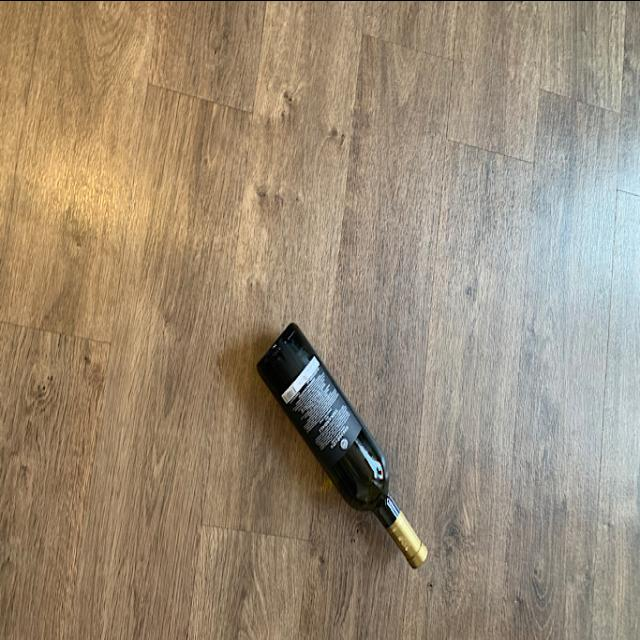litter: (253, 321, 434, 571)
